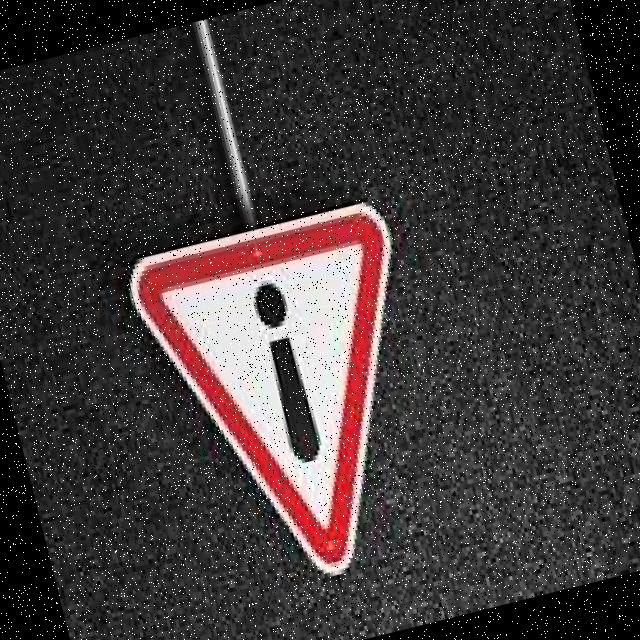warning: (108, 175, 477, 612)
